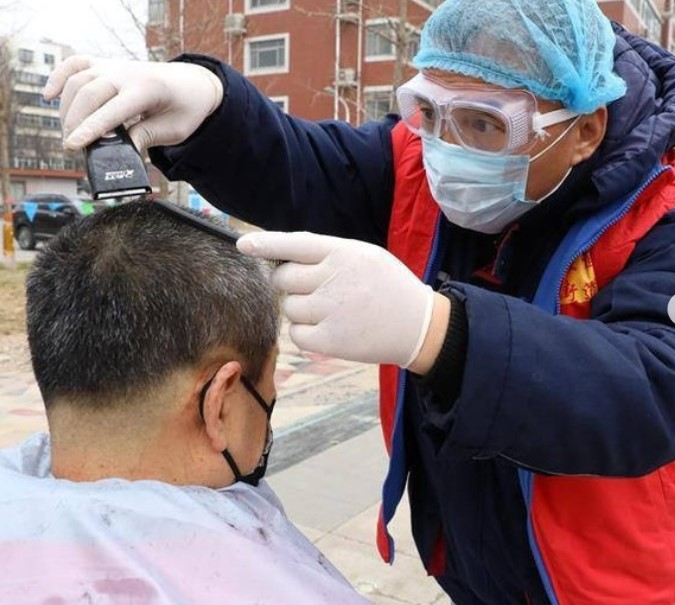face_with_mask: (27, 199, 278, 491), (393, 0, 614, 242)
